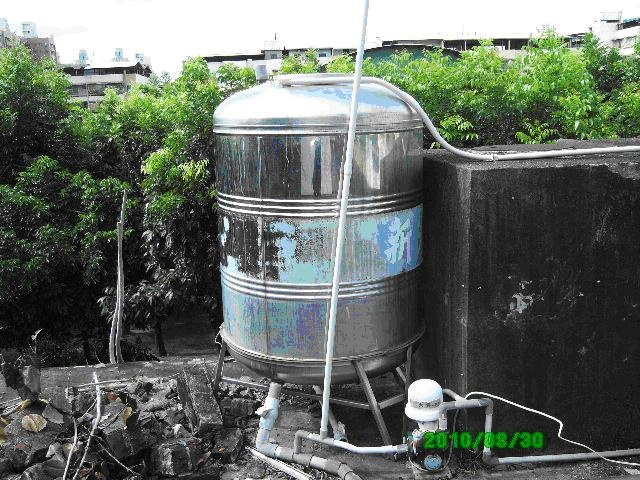water_tower: (212, 73, 427, 448)
